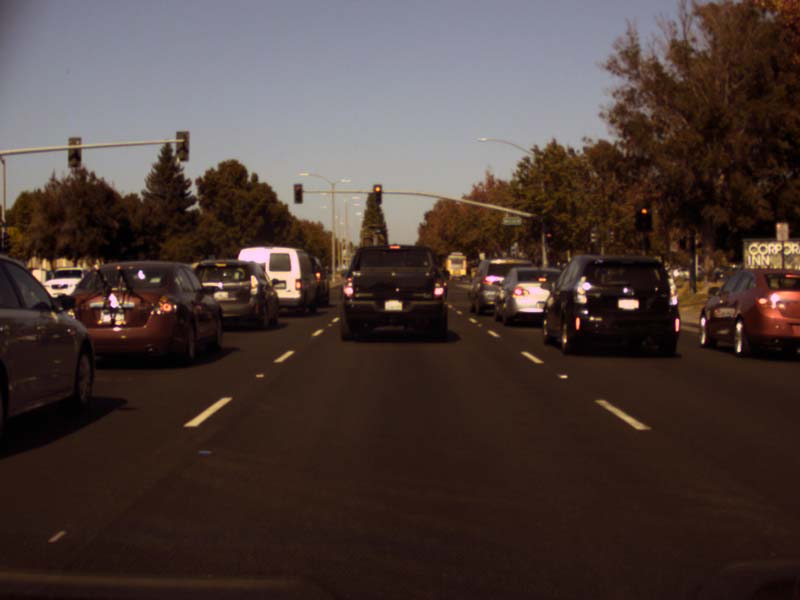Red: (636, 203, 650, 231), (373, 184, 381, 204), (294, 184, 301, 203), (546, 226, 552, 240)
